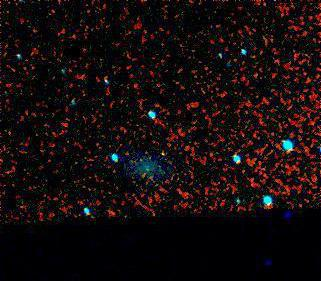star: (127, 144, 157, 174)
